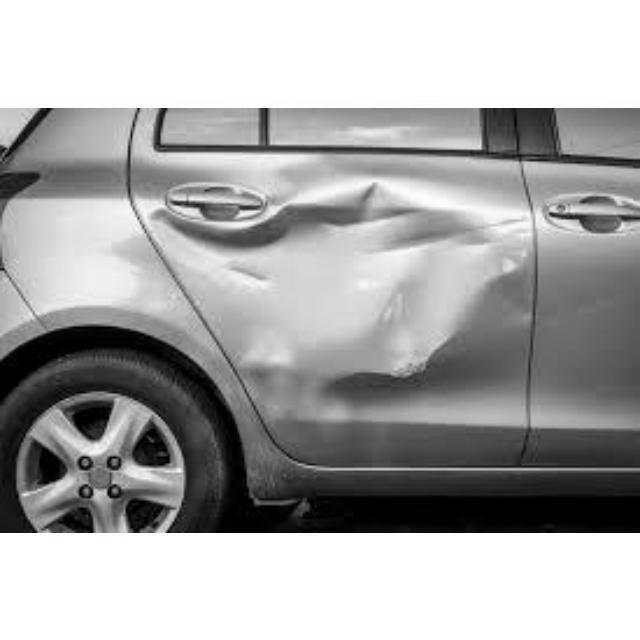doorouter-dent: (136, 129, 503, 440)
